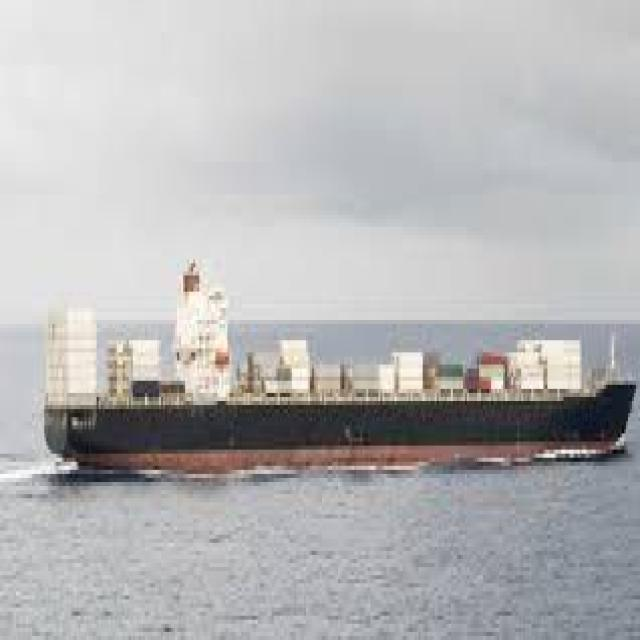cargoship: (45, 254, 630, 472)
